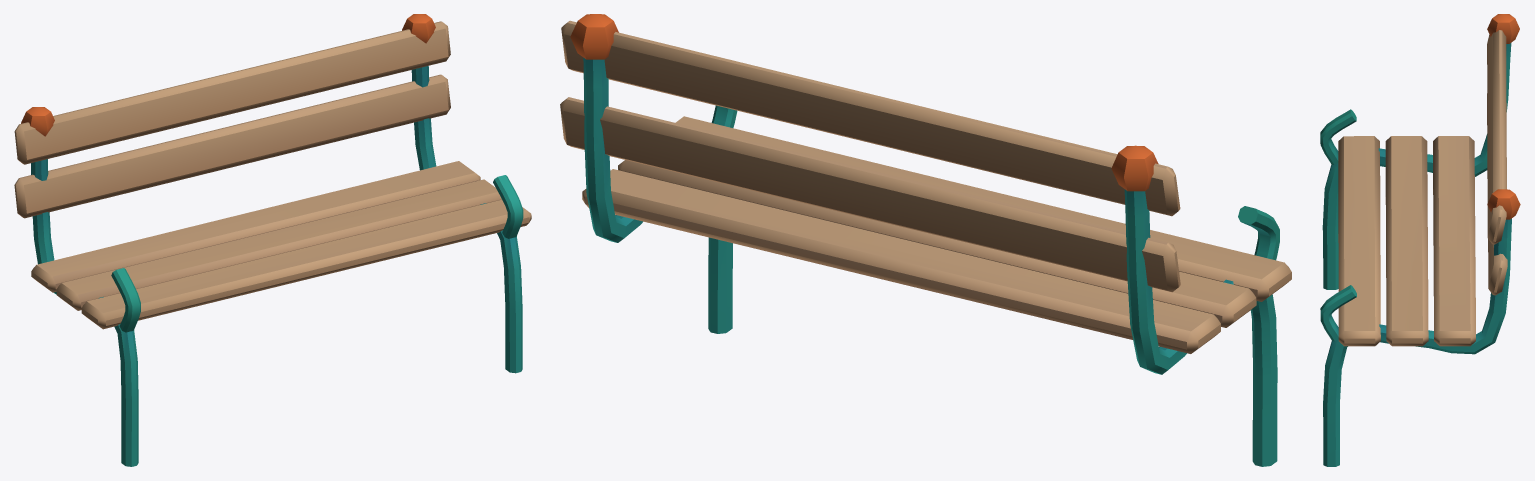
File: common_town_bench.glb
The picture shows the model from 3 angles, left to right: view 1: azimuth 30°, elevation 25°; view 2: azimuth 150°, elevation 25°; view 3: azimuth 270°, elevation 25°; orthographic projection. The views are drawn at different scales.
Parts seen in each view (by area): view 1: common_town_bench; view 2: common_town_bench; view 3: common_town_bench.
Part boxes in pixels (<box>): common_town_bench: <box>14,14,531,466</box>; common_town_bench: <box>560,14,1291,466</box>; common_town_bench: <box>1320,14,1520,466</box>.
Size of the model in its own units: 1.7 by 1.08 by 0.7176.
